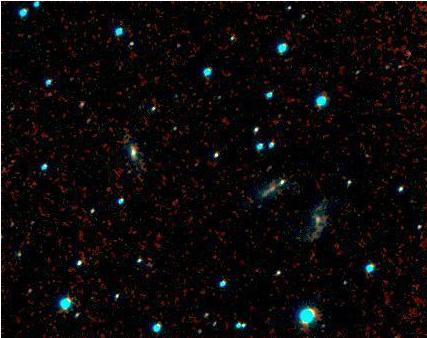star: (303, 18, 333, 48)
